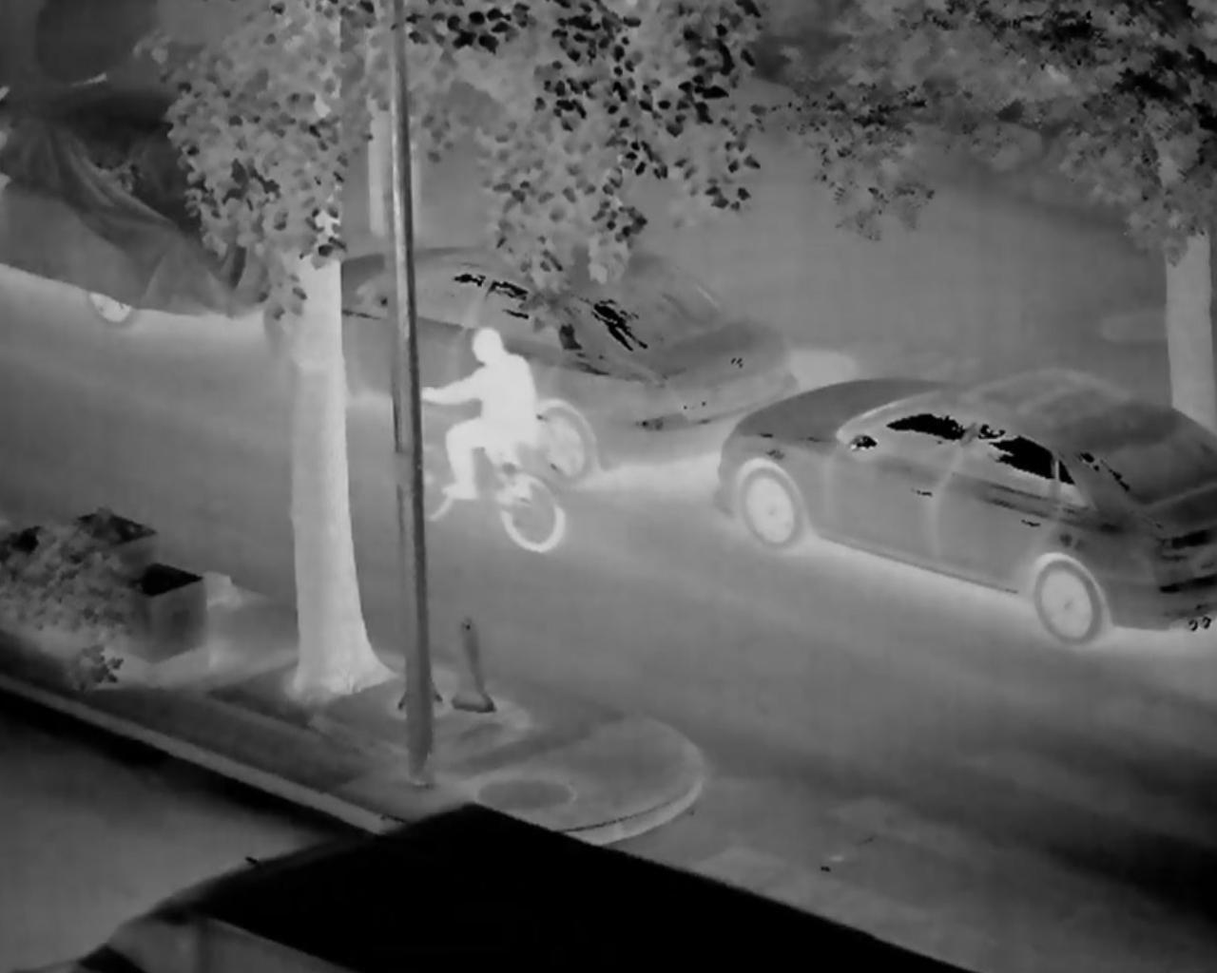person: (415, 322, 556, 517)
